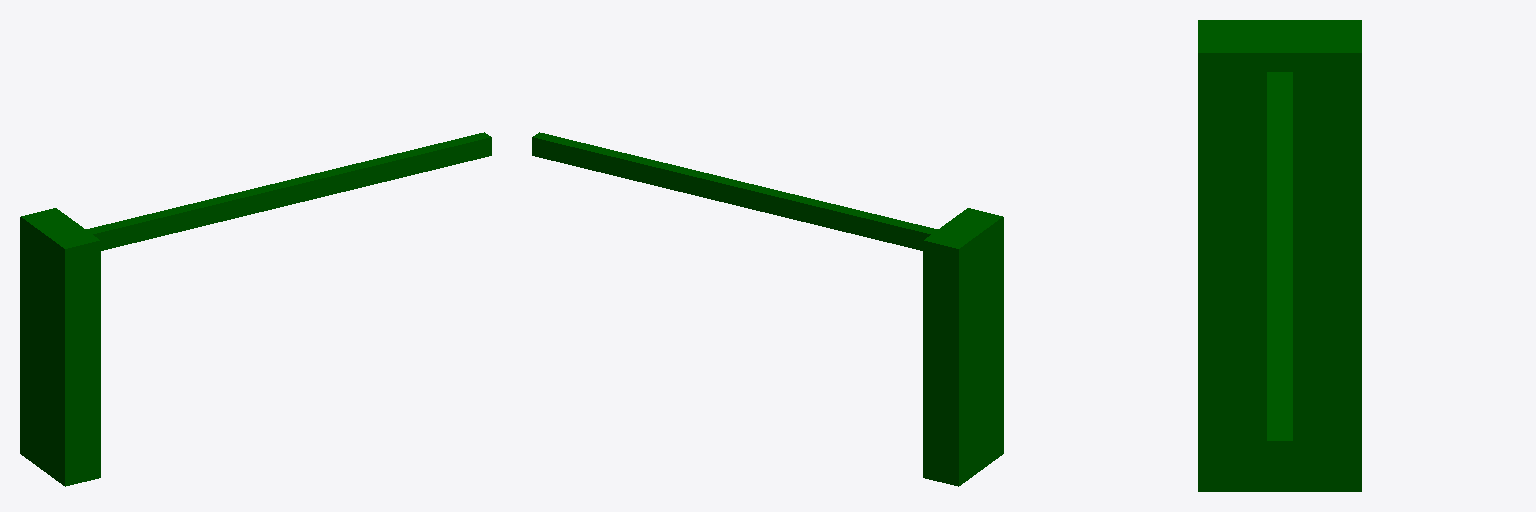
URDF robot description (simple_green_crane):
<?xml version="1.0"?>
<robot name="simple_green_crane">

  <material name="green">
    <color rgba="0 0.4 0 1"/>
  </material>

  <link name="base_link">
    <visual>
      <geometry>
        <box size="0.3 0.65 1.912"/>
      </geometry>
      <material name="green"/>
      <origin xyz="0 0 0.956"/>
    </visual>
  </link>

  <link name="crane_boom">
    <visual>
      <geometry>
        <box size="3.68 0.1 0.15"/>
      </geometry>
      <material name="green"/>
      <origin rpy="0 0 0" xyz="1.76 0 0"/>
    </visual>
  </link>

  <joint name="base_to_crane_boom" type="revolute">
    <axis xyz="0 1 0"/>
    <limit effort="1000.0" lower="0.3267" upper="-0.6948" velocity="0.5"/>
    <origin rpy="0 0 0"  xyz="0 0 1.752"/>
    <parent link="base_link"/>
    <child link="crane_boom"/>
  </joint>

  <link name="toolpoint">
    <visual>
      <geometry>
        <box size="0 0 0"/>
      </geometry>
      <material name="green"/>
      <origin xyz="0 0 0.956"/>
    </visual>
  </link>

  <joint name="crane_boom_to_toolpoint" type="fixed">
    <origin rpy="0 0 0"  xyz="3.6 0 0"/>
    <parent link="crane_boom"/>
    <child link="toolpoint"/>
  </joint>

</robot>

--- Facts derived from the render (not from the file) ---
Views: 3 orthographic renders of the robot side by side, from view 1: azimuth 30°, elevation 25°; view 2: azimuth 150°, elevation 25°; view 3: azimuth 270°, elevation 25°.
Model simple_green_crane with 3 links and 2 joints (1 revolute, 1 fixed), rooted at base_link, posed all joints at 0.
Links seen in each view (by area): view 1: base_link, crane_boom; view 2: base_link, crane_boom; view 3: base_link, crane_boom.
Link boxes in pixels (x1,y1,x2,y2): base_link: (20, 208, 100, 486); crane_boom: (86, 132, 491, 250); base_link: (923, 208, 1003, 486); crane_boom: (532, 132, 937, 250); base_link: (1198, 20, 1361, 491); crane_boom: (1267, 72, 1292, 475).
Size in the robot's own frame: 3.75 by 0.65 by 2.71 metres.
Geometry: primitives only (box / cylinder / sphere), no mesh files.